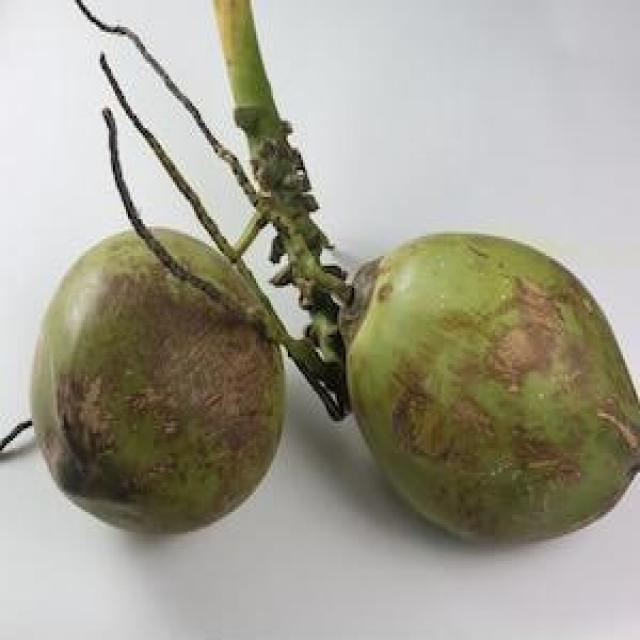coconut: (341, 221, 640, 546), (27, 227, 284, 545)
